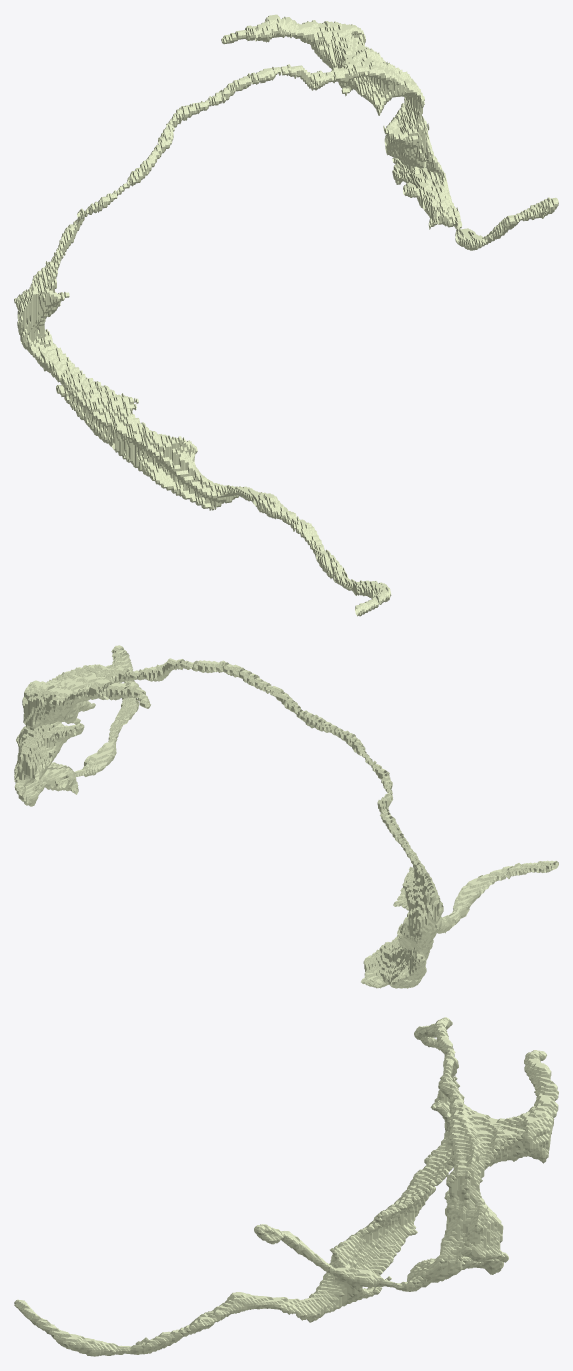
The model's file is SVV_RMDVL.gltf.
The picture shows the model from 3 angles, top to bottom: view 1: azimuth 30°, elevation 25°; view 2: azimuth 150°, elevation 25°; view 3: azimuth 270°, elevation 25°; orthographic projection. The views are drawn at different scales.
Parts seen in each view (by area): view 1: RMDVL; view 2: RMDVL; view 3: RMDVL.
Boxes of the visible parts, x1=… form: RMDVL: x1=14, y1=14, x2=558, y2=616; RMDVL: x1=14, y1=645, x2=558, y2=988; RMDVL: x1=14, y1=1017, x2=558, y2=1356.
Size of the model in its own units: 118369 by 96281 by 134165.
